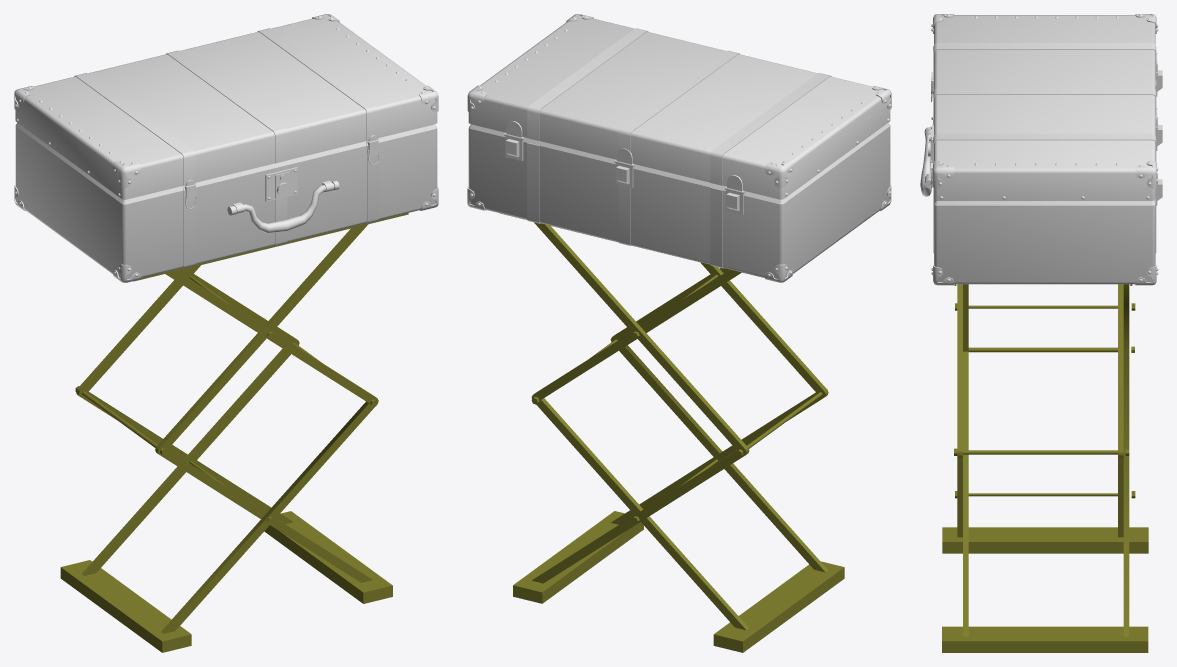
The picture shows the model from 3 angles, left to right: view 1: azimuth 30°, elevation 25°; view 2: azimuth 150°, elevation 25°; view 3: azimuth 270°, elevation 25°; orthographic projection.
Visible parts, largest first — view 1: cap001, Object004, Object051, Line005; view 2: cap001, Object004, Object051; view 3: cap001, Object051, Object004, Line005.
Boxes of the visible parts, x1,y1,x2,y2 form: cap001: (14,14,438,199); Object004: (14,123,438,282); Object051: (60,213,408,652); Line005: (227,180,339,233); cap001: (467,14,891,199); Object004: (467,123,891,282); Object051: (500,213,844,652); cap001: (931,14,1158,200); Object051: (942,284,1148,652); Object004: (925,70,1162,285); Line005: (920,127,932,196).
Size of the model in its own units: 1016 by 1512 by 657.
